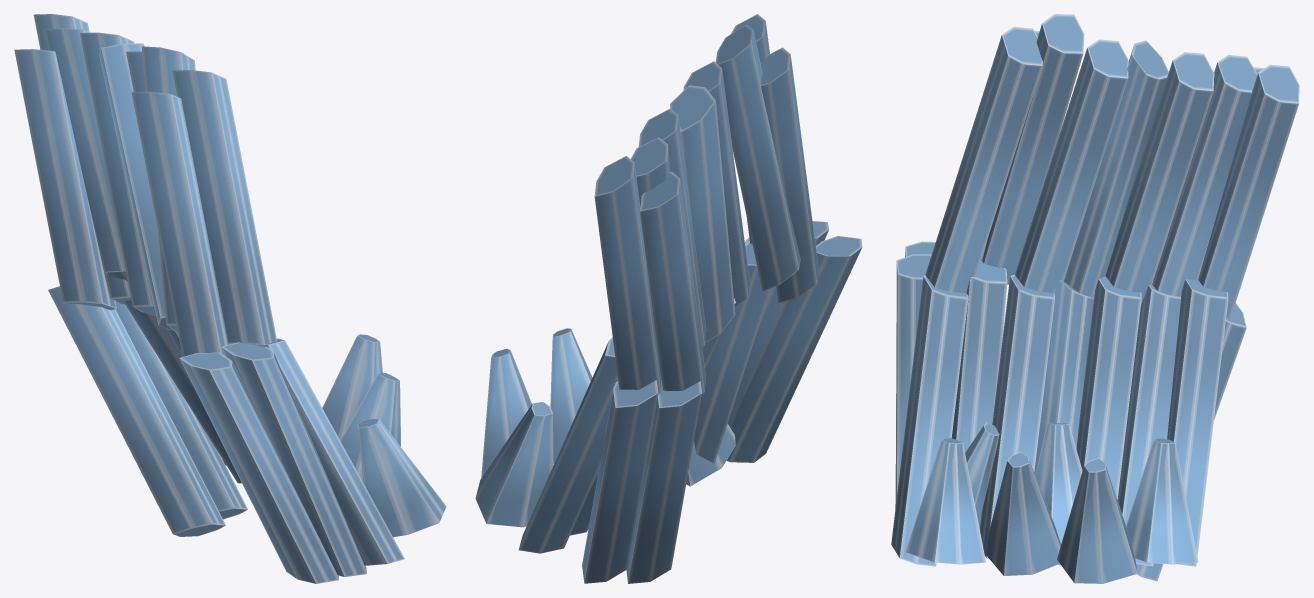
The model's file is wall_spike_03.fbx.
The picture shows the model from 3 angles, left to right: view 1: azimuth 30°, elevation 25°; view 2: azimuth 150°, elevation 25°; view 3: azimuth 270°, elevation 25°; orthographic projection. The views are drawn at different scales.
Parts seen in each view (by area): view 1: wall_spike_03; view 2: wall_spike_03; view 3: wall_spike_03.
Part boxes in pixels (left/top/right/bottom): wall_spike_03: left=14, top=14, right=446, bottom=583; wall_spike_03: left=475, top=14, right=862, bottom=583; wall_spike_03: left=891, top=14, right=1299, bottom=583.
Size of the model in its own units: 1.2 by 2.21 by 1.59.
1 material, 1 textured.
